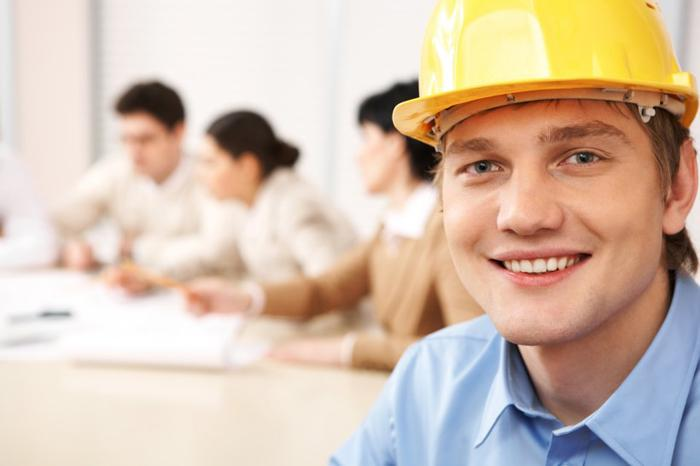helmet: (398, 1, 700, 145)
